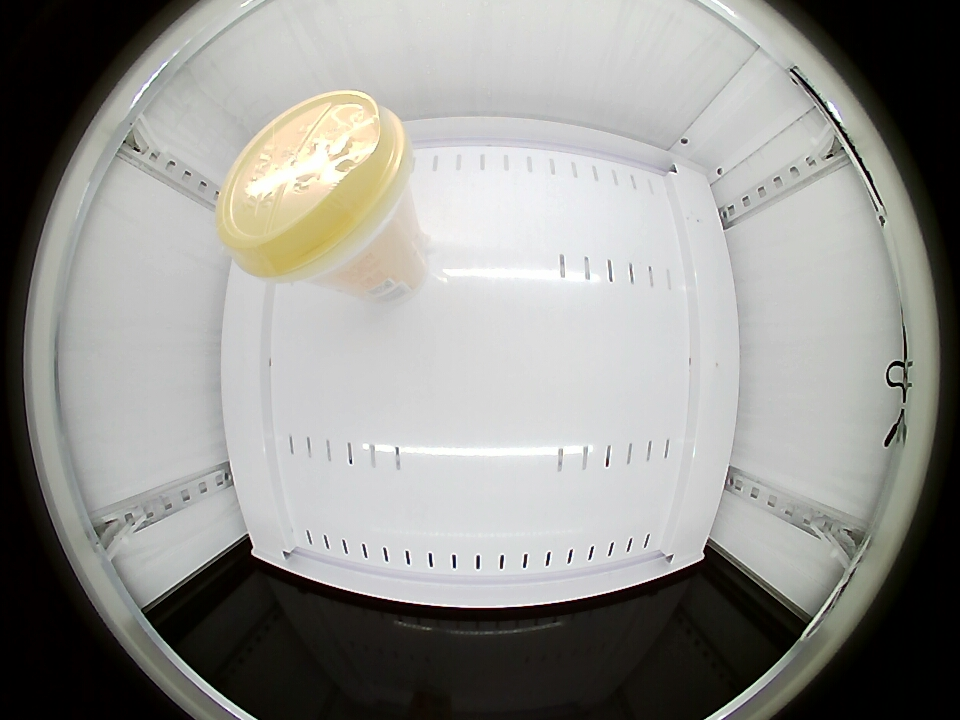youlemei: (217, 90, 411, 280)
